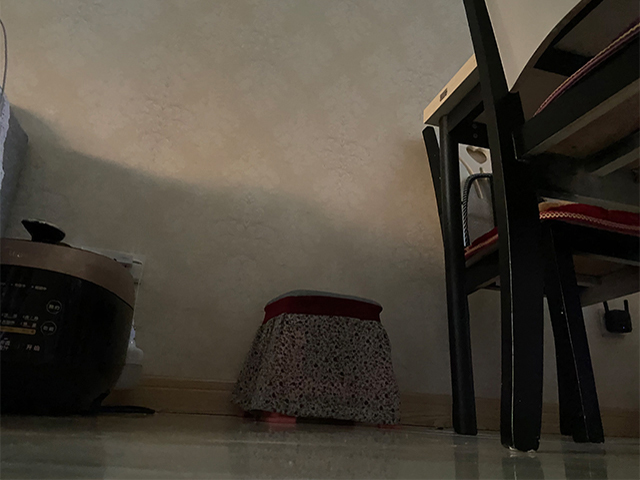stool: (461, 1, 640, 454), (421, 124, 640, 446), (230, 289, 404, 428)
